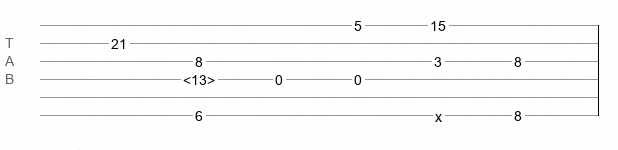0: (275, 72, 283, 82), (354, 72, 362, 82)
15: (430, 18, 446, 28)
21: (111, 36, 127, 46)
3: (434, 54, 442, 64)
5: (354, 18, 362, 28)
6: (195, 108, 203, 118)
8: (195, 54, 203, 64), (514, 54, 522, 64), (514, 108, 522, 118)
harmonic: (183, 72, 215, 82)
x: (435, 109, 442, 117)
